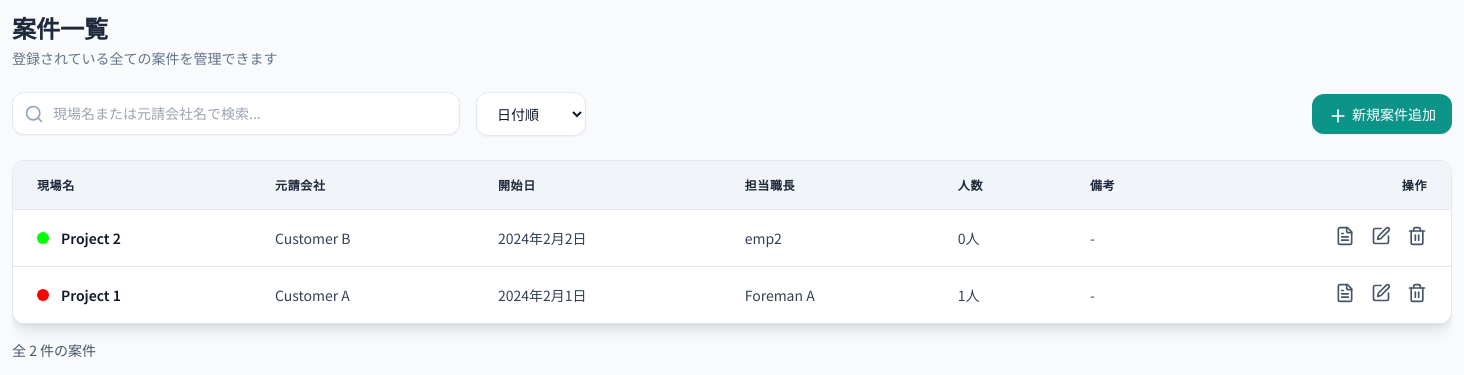
Test: ProjectListPage › should filter projects by search query
Type "Customer A" into the field with placeholder "現場名または元請会社名で検索..." at (236, 114), box [12,92,460,135]
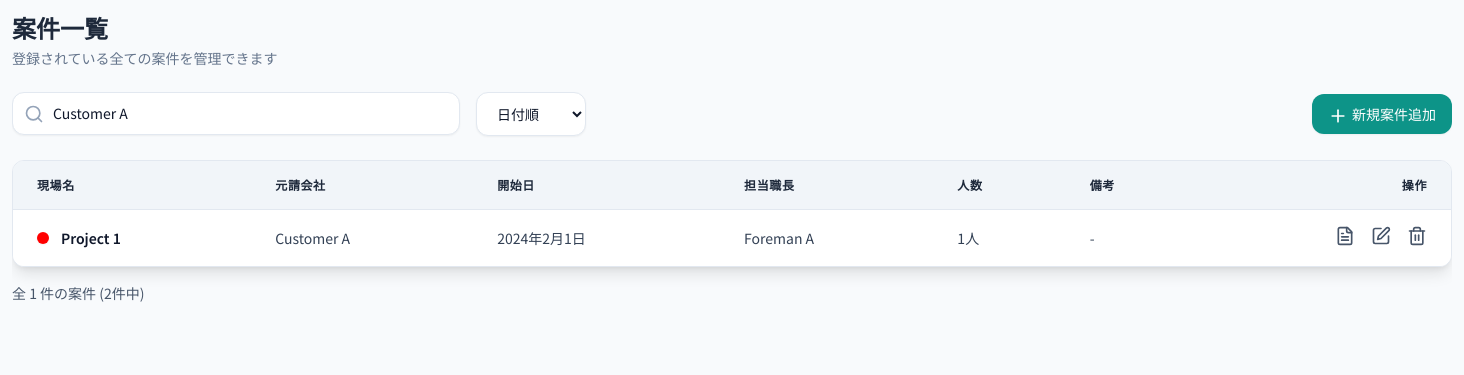
Now the text "Project 2" is gone
